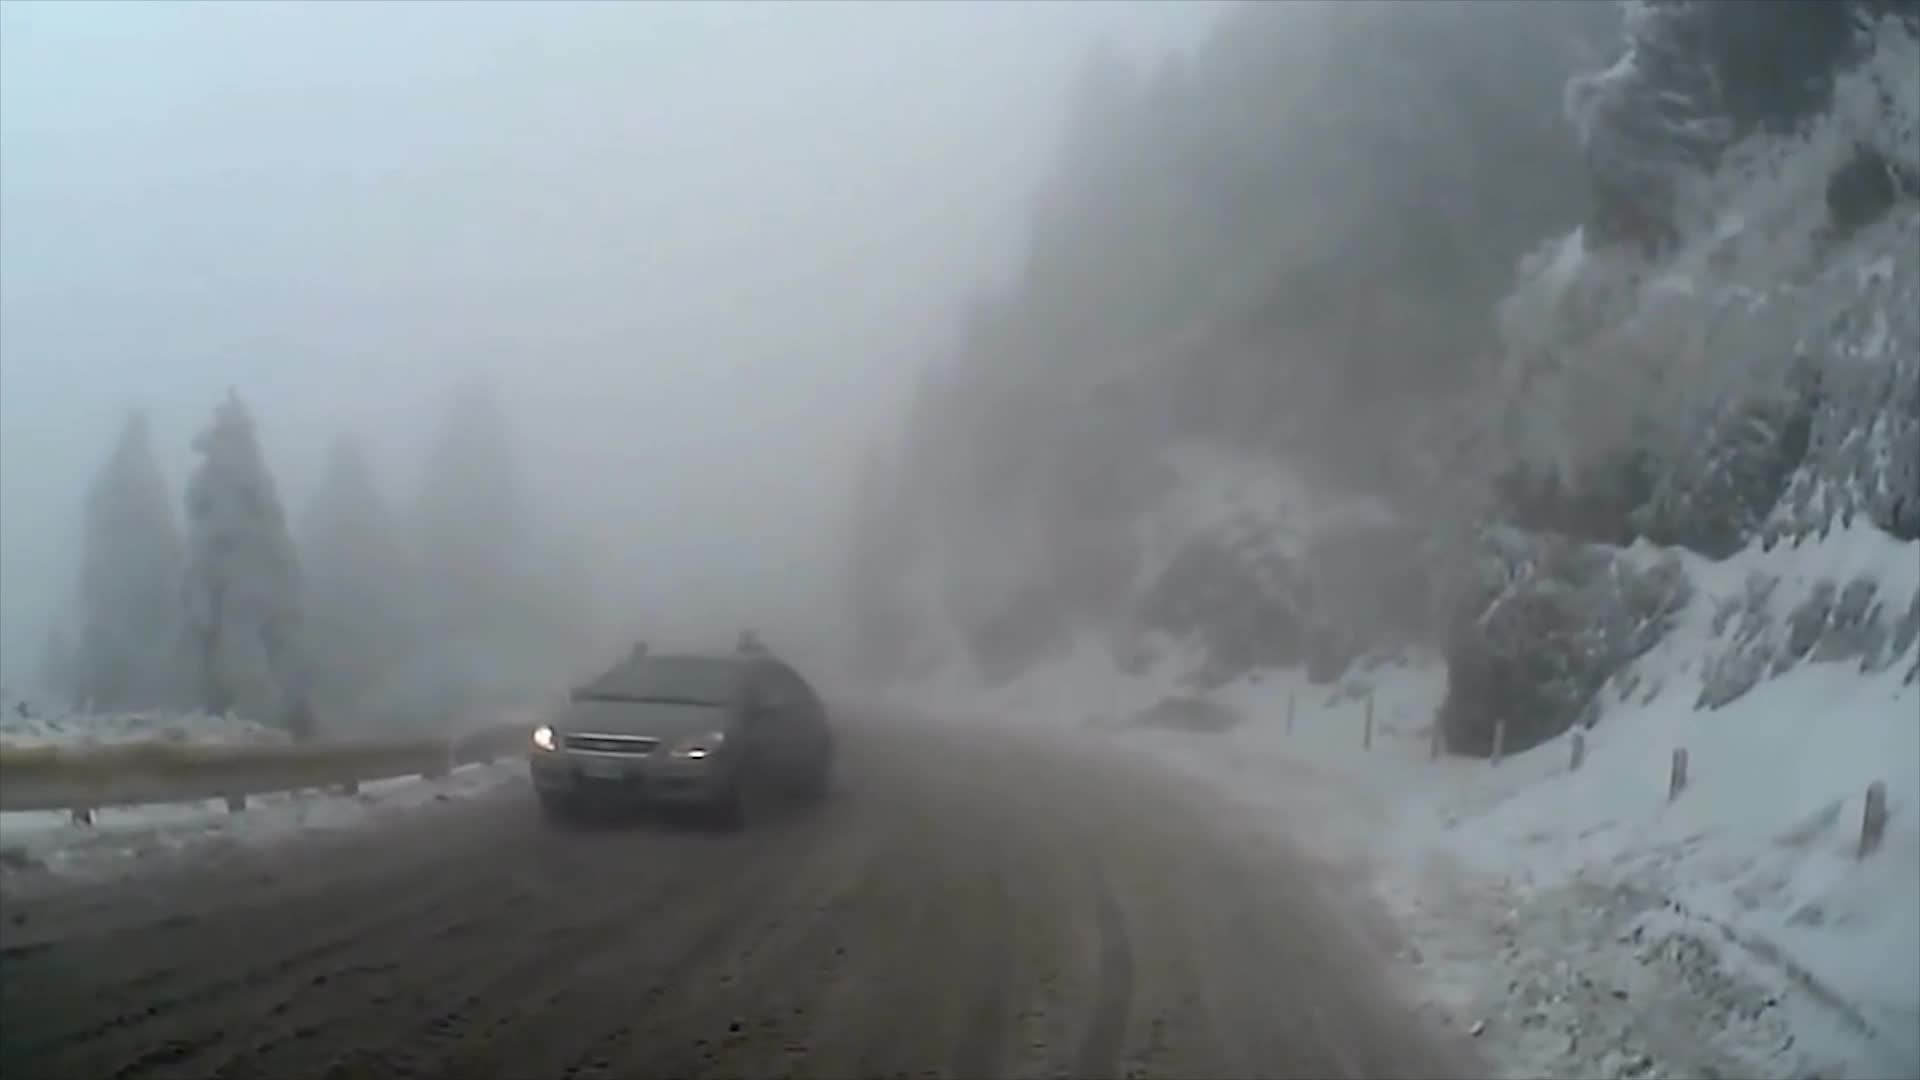vehicle: (527, 646, 832, 831)
